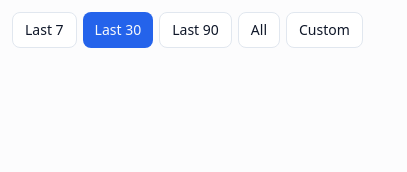
Test: DateRangePicker › shows custom date inputs when Custom is selected
Click the button "Custom".
click(324, 30)  # box [286,12,363,48]
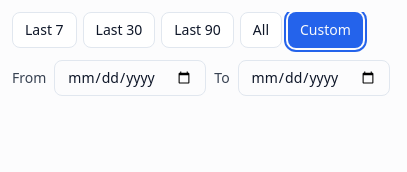
Check: the date field labelled "From" is shown, box [54,60,206,96]
Check: the date field labelled "To" is shown, box [238,60,390,96]
